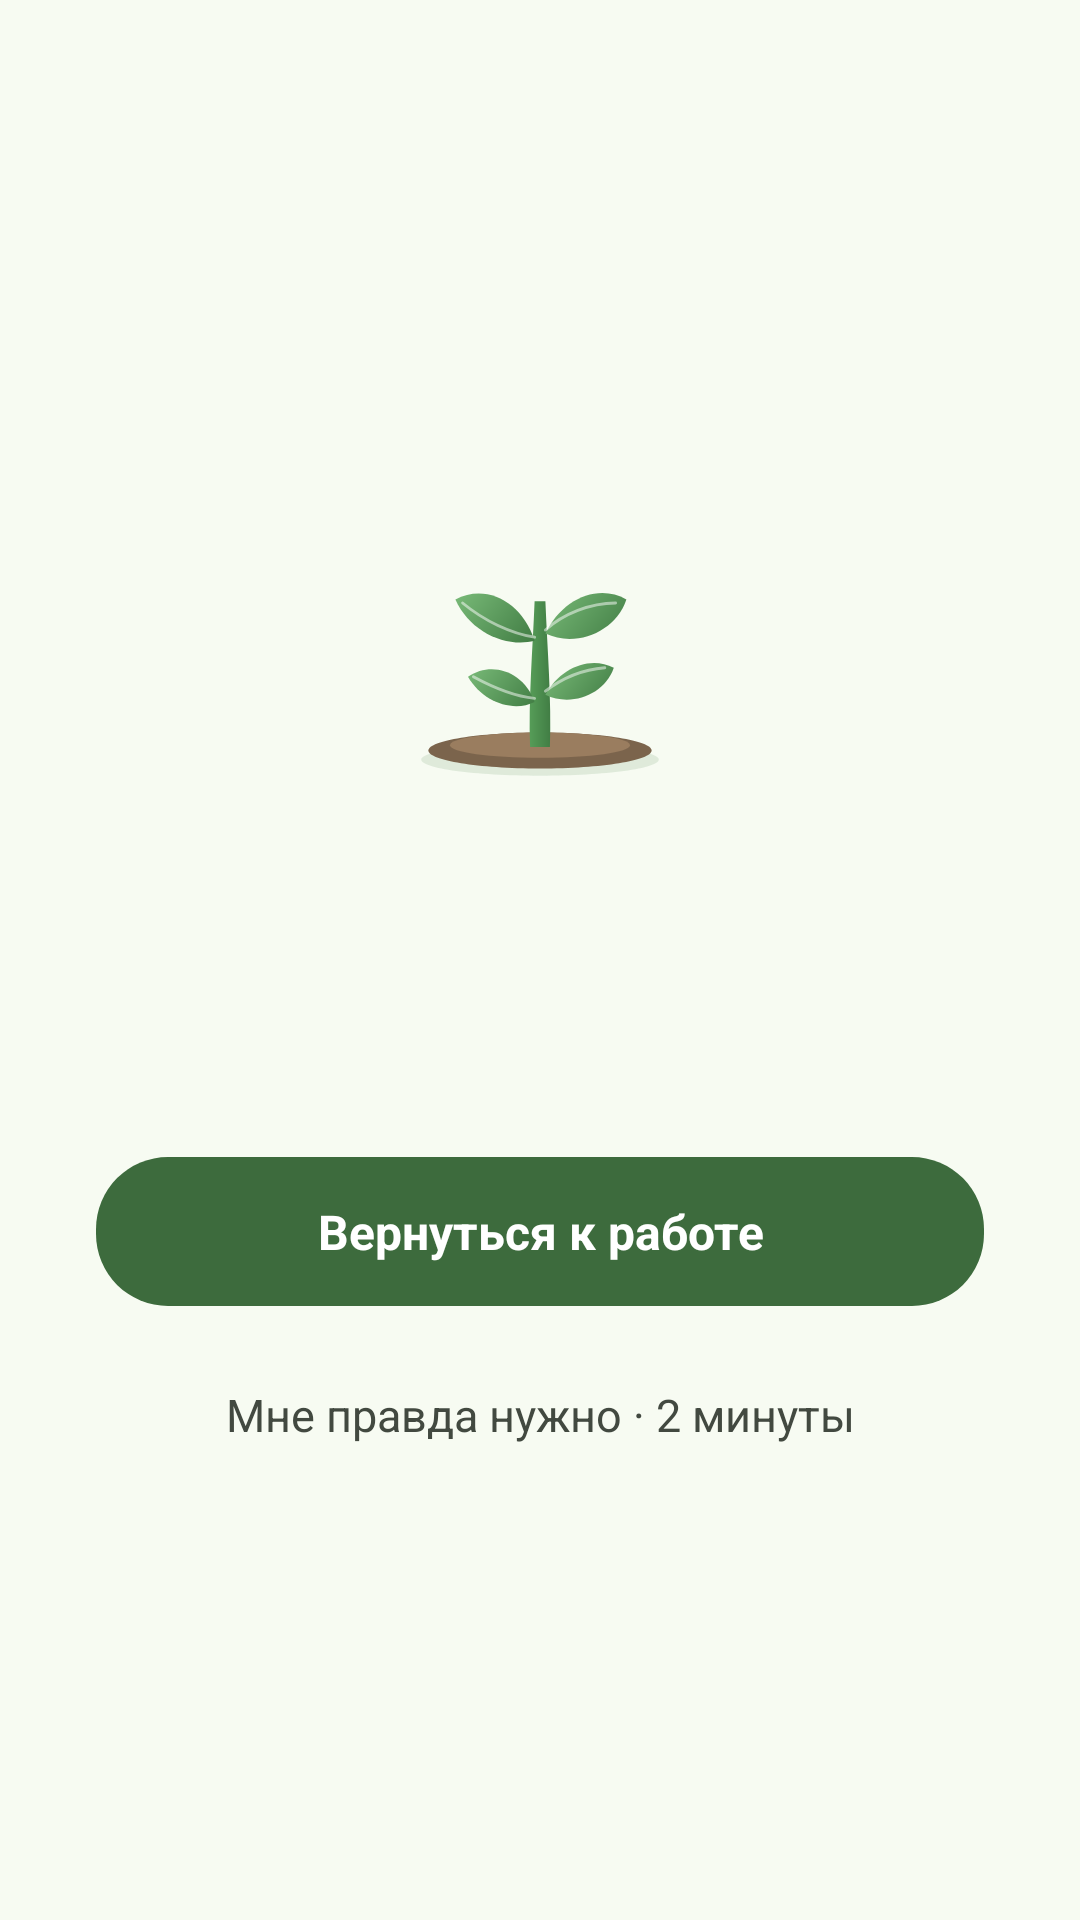

Icons on this 1080 × 1920 Android screen, each with the point to tap as (x=x, y=y):
plant stage: (x=540, y=681)
